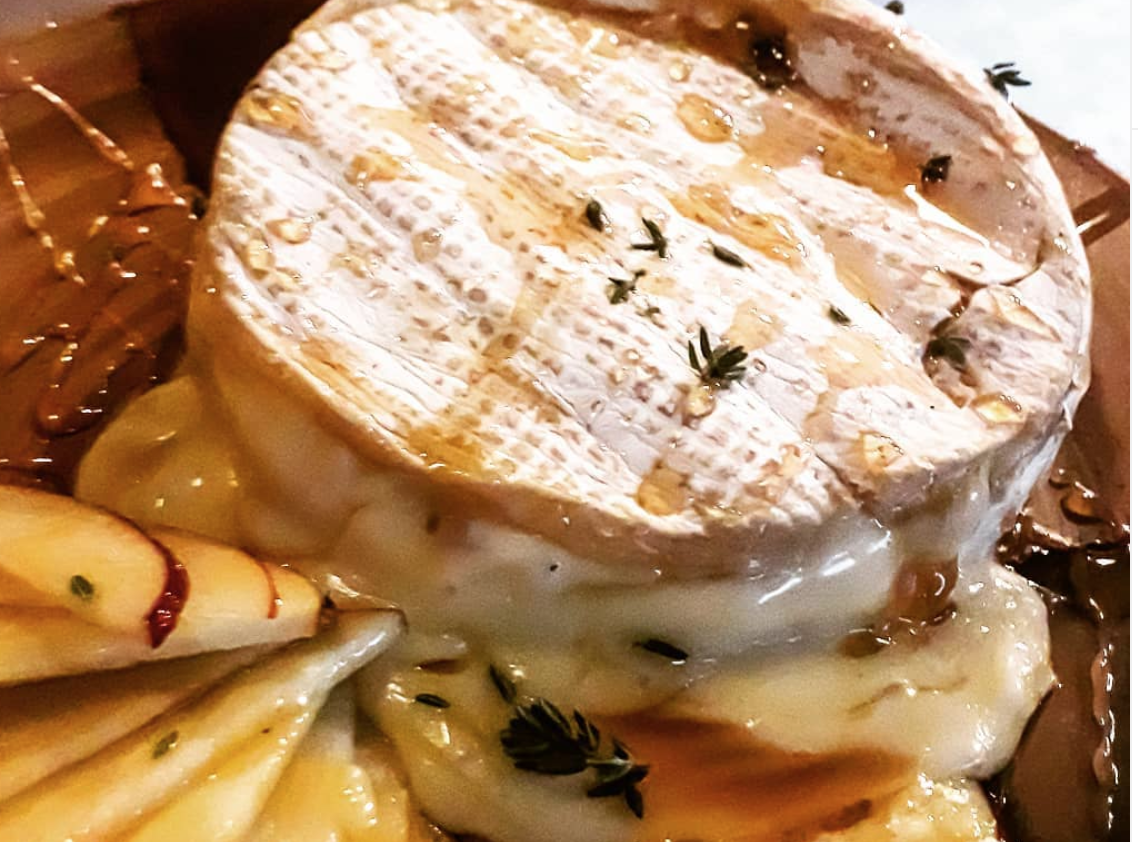camembert: (183, 1, 1098, 692)
